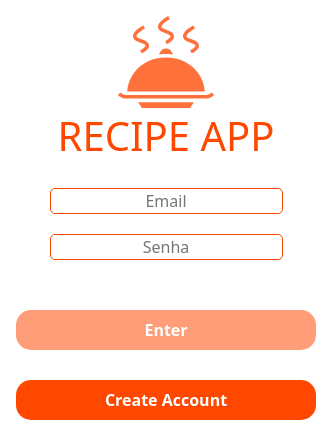
it: Testa o App de Receitas › Se o botão desabilita ao preencher os inputs corretamente
This screenshot has width=333, height=437.
Expected: the button "Enter" is disabled, [16,310,316,350]
In the field with test id "email-input": (166, 201) [50,188,282,214], type "test@trybe.com"
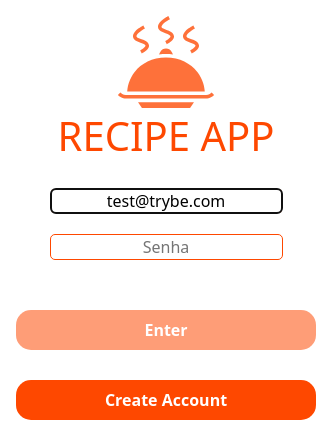
In the password field with test id "password-input": (166, 247) [50,234,282,260], type "1234567"
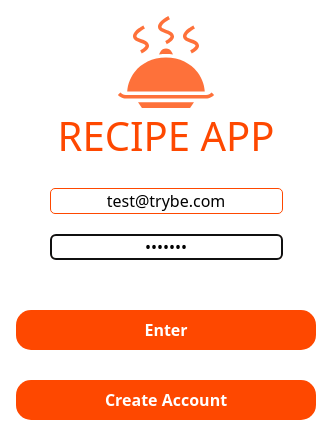
Expected: the button "Enter" is enabled, [16,310,316,350]
